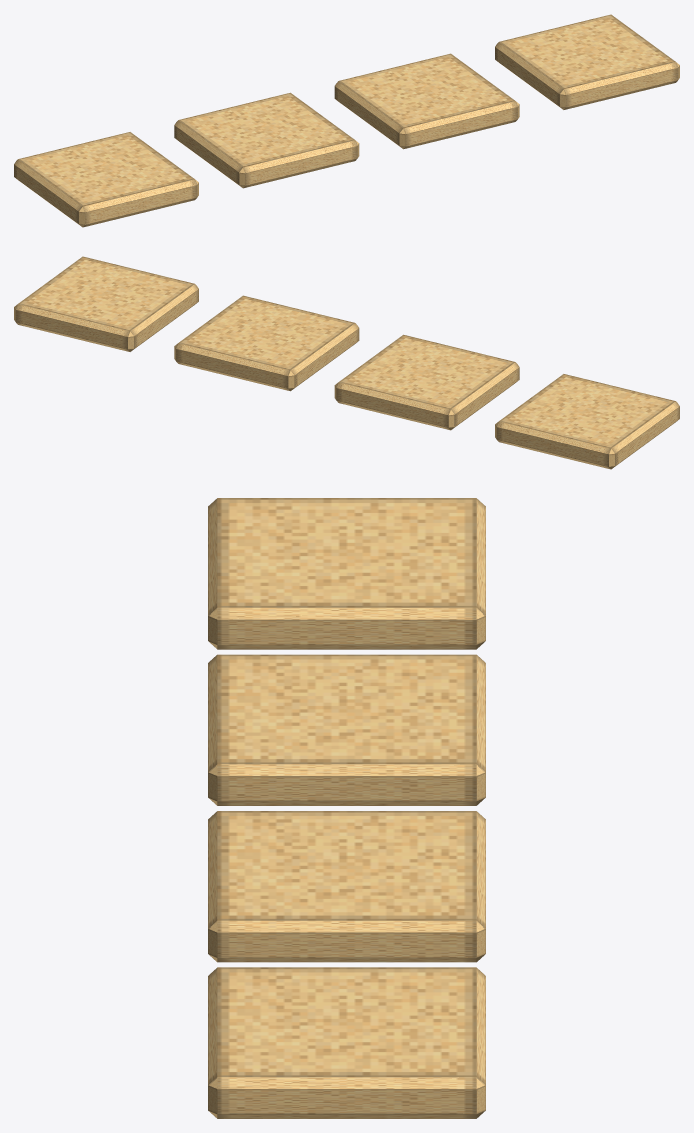
Rendered from marker_spawns.fbx.
3 renders of one model, top to bottom at view 1: azimuth 30°, elevation 25°; view 2: azimuth 150°, elevation 25°; view 3: azimuth 270°, elevation 25°, orthographic. The views are drawn at different scales.
Visible parts, largest first — view 1: marker_spawns; view 2: marker_spawns; view 3: marker_spawns.
Part boxes in pixels (<box>): marker_spawns: <box>14,14,679,227</box>; marker_spawns: <box>14,256,679,469</box>; marker_spawns: <box>208,498,485,1118</box>.
Size of the model in its own units: 30 by 1 by 6.
Materials: 1 (1 with a texture image).
